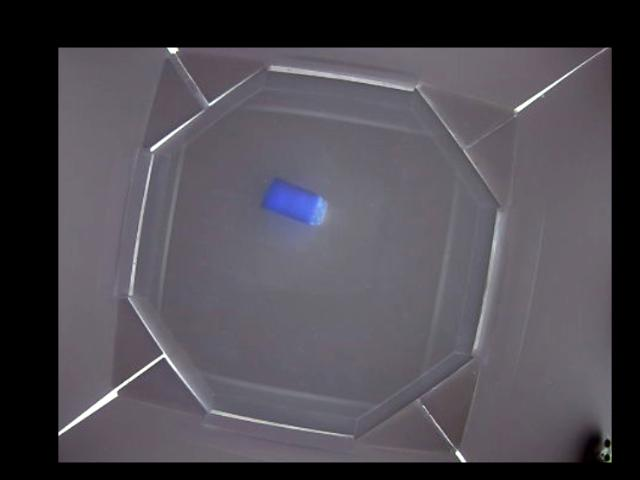Potato: (262, 178, 326, 224)
